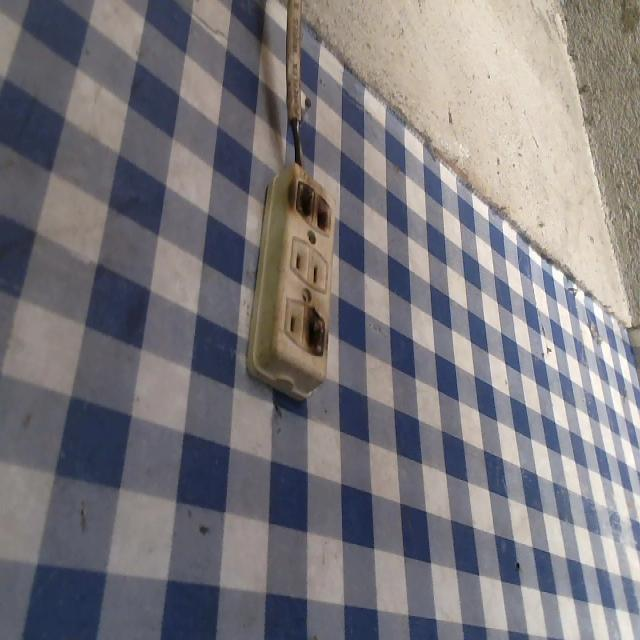-: (285, 171, 332, 237), (301, 301, 328, 359)
